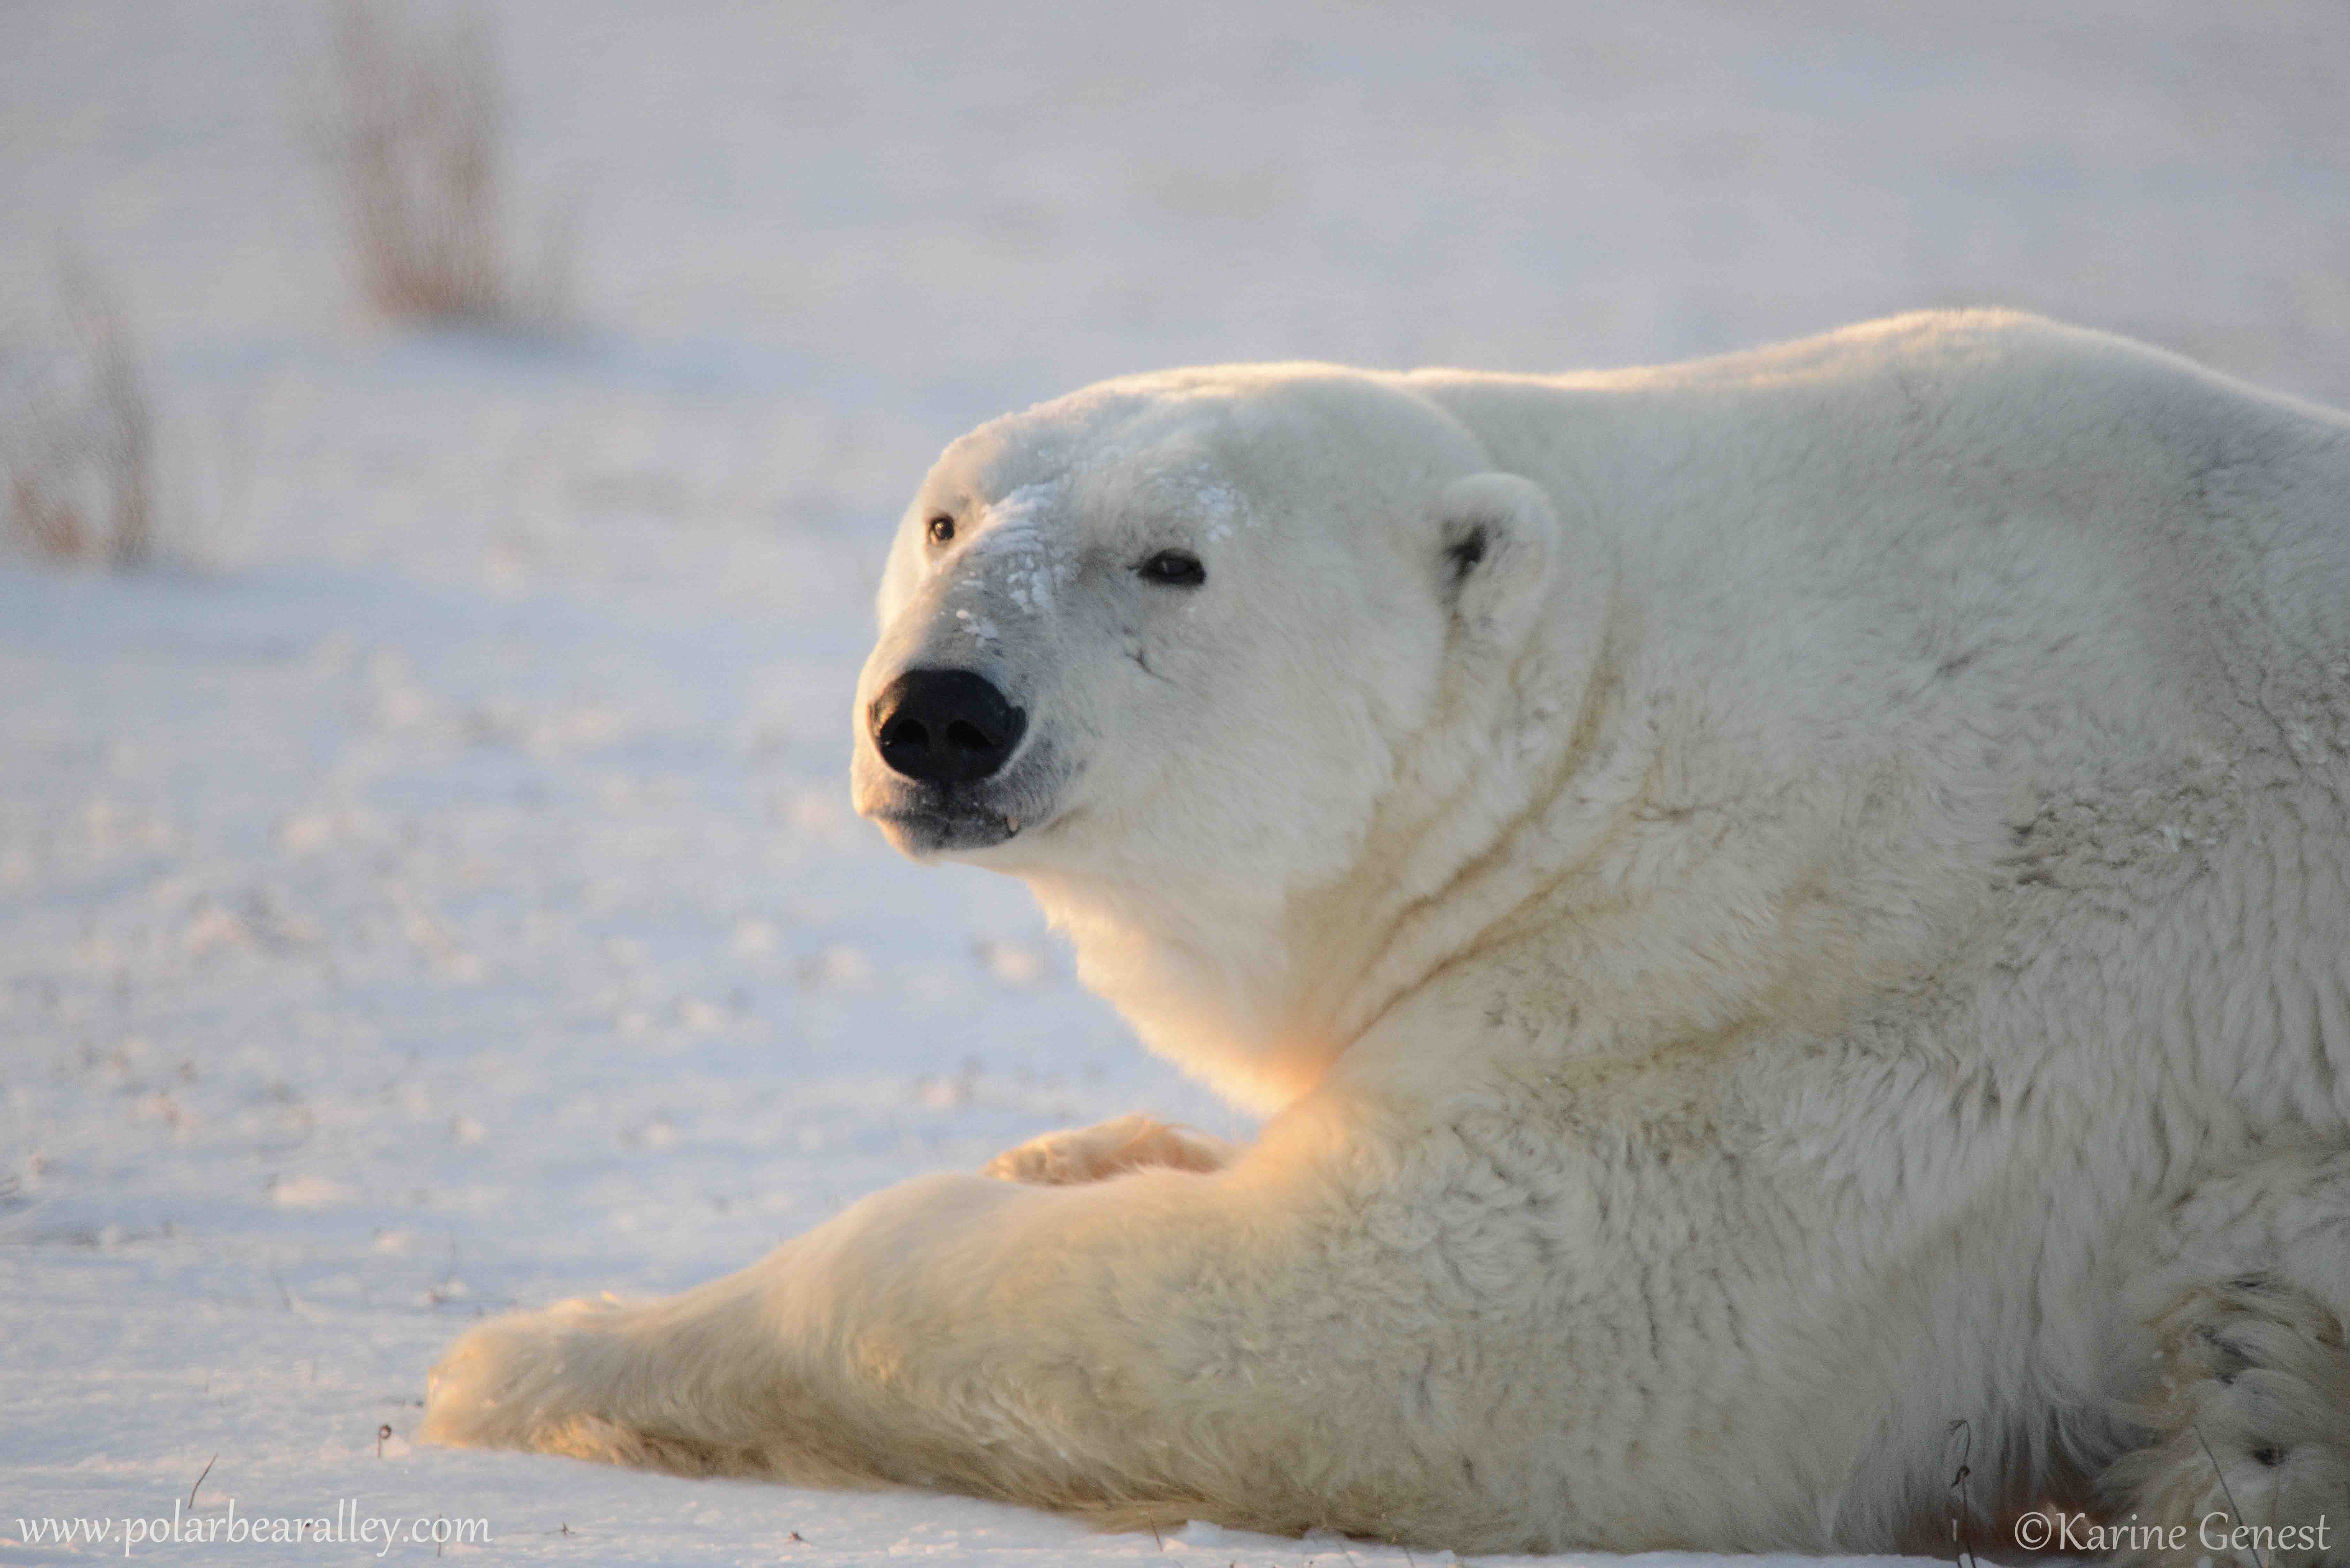Polar Bear: (584, 198, 2350, 1493)
